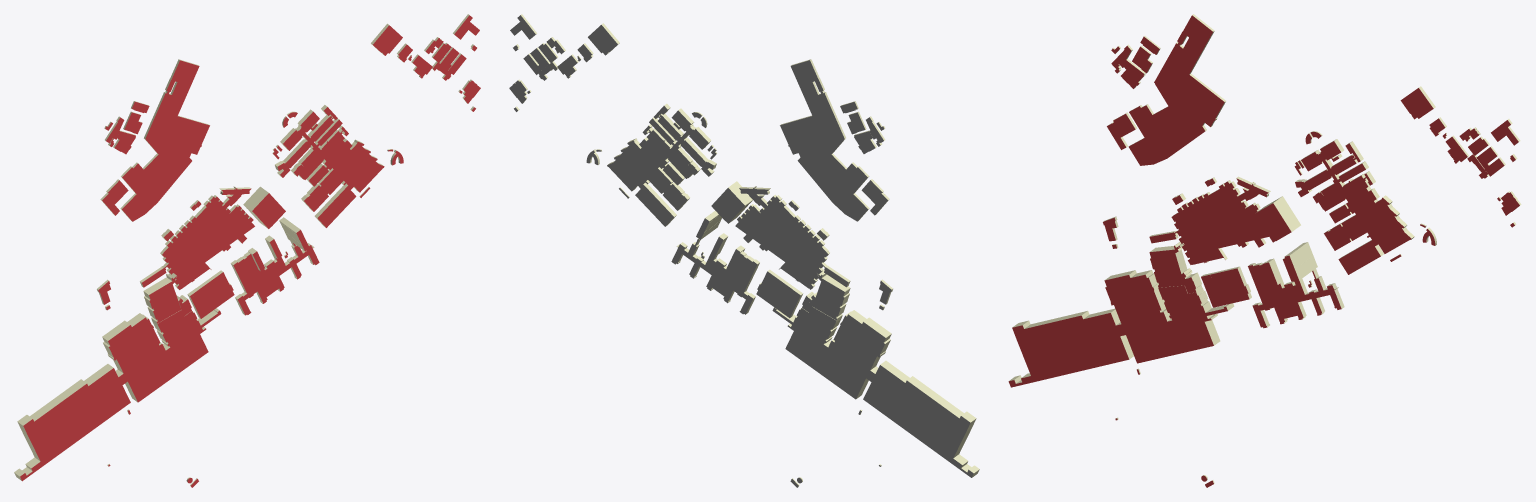
3 renders of one model, left to right at view 1: azimuth 30°, elevation 25°; view 2: azimuth 150°, elevation 25°; view 3: azimuth 330°, elevation 25°, orthographic. The views are drawn at different scales.
Visible parts, largest first — view 1: NL.IMBAG.Pand.0861100000371444-8, NL.IMBAG.Pand.0861100000364265-35, NL.IMBAG.Pand.0861100000370693-19, NL.IMBAG.Pand.0861100000375466-27, NL.IMBAG.Pand.0861100000371564-9, NL.IMBAG.Pand.0861100000371443-6, NL.IMBAG.Pand.0861100000422323-5, NL.IMBAG.Pand.0861100000428609-29, NL.IMBAG.Pand.0861100000425672-36; view 2: NL.IMBAG.Pand.0861100000371444-8, NL.IMBAG.Pand.0861100000364265-35, NL.IMBAG.Pand.0861100000370693-19, NL.IMBAG.Pand.0861100000375466-27, NL.IMBAG.Pand.0861100000371564-9, NL.IMBAG.Pand.0861100000371443-6, NL.IMBAG.Pand.0861100000422323-5, NL.IMBAG.Pand.0861100000428609-29, NL.IMBAG.Pand.0861100000425672-36; view 3: NL.IMBAG.Pand.0861100000371444-8, NL.IMBAG.Pand.0861100000364265-35, NL.IMBAG.Pand.0861100000370693-19, NL.IMBAG.Pand.0861100000375466-27, NL.IMBAG.Pand.0861100000371564-9, NL.IMBAG.Pand.0861100000371443-6, NL.IMBAG.Pand.0861100000422323-5, NL.IMBAG.Pand.0861100000428609-29, NL.IMBAG.Pand.0861100000374406-24, NL.IMBAG.Pand.0861100000425672-36, NL.IMBAG.Pand.0861100000369203-20.
Part boxes in pixels (x1,y1,x2,y2): NL.IMBAG.Pand.0861100000371444-8: (14,308,221,481); NL.IMBAG.Pand.0861100000364265-35: (275,105,384,227); NL.IMBAG.Pand.0861100000370693-19: (120,59,209,221); NL.IMBAG.Pand.0861100000375466-27: (140,186,254,289); NL.IMBAG.Pand.0861100000371564-9: (230,239,319,315); NL.IMBAG.Pand.0861100000371443-6: (143,273,191,323); NL.IMBAG.Pand.0861100000422323-5: (189,270,234,318); NL.IMBAG.Pand.0861100000428609-29: (243,186,285,228); NL.IMBAG.Pand.0861100000425672-36: (371,23,402,55); NL.IMBAG.Pand.0861100000371444-8: (772,307,979,477); NL.IMBAG.Pand.0861100000364265-35: (607,103,716,226); NL.IMBAG.Pand.0861100000370693-19: (780,59,869,221); NL.IMBAG.Pand.0861100000375466-27: (735,186,850,289); NL.IMBAG.Pand.0861100000371564-9: (671,237,759,314); NL.IMBAG.Pand.0861100000371443-6: (802,269,850,320); NL.IMBAG.Pand.0861100000422323-5: (756,269,801,318); NL.IMBAG.Pand.0861100000428609-29: (711,181,752,223); NL.IMBAG.Pand.0861100000425672-36: (588,23,619,55); NL.IMBAG.Pand.0861100000371444-8: (1008,270,1234,387); NL.IMBAG.Pand.0861100000364265-35: (1295,139,1414,274); NL.IMBAG.Pand.0861100000370693-19: (1128,14,1226,165); NL.IMBAG.Pand.0861100000375466-27: (1149,176,1270,264); NL.IMBAG.Pand.0861100000371564-9: (1248,258,1344,328); NL.IMBAG.Pand.0861100000371443-6: (1149,242,1202,293); NL.IMBAG.Pand.0861100000422323-5: (1202,266,1251,307); NL.IMBAG.Pand.0861100000428609-29: (1255,196,1300,242); NL.IMBAG.Pand.0861100000374406-24: (1284,242,1317,281); NL.IMBAG.Pand.0861100000425672-36: (1400,86,1435,119); NL.IMBAG.Pand.0861100000369203-20: (1107,112,1137,149).
Size of the model in its own units: 1251 by 1108 by 81.01.
